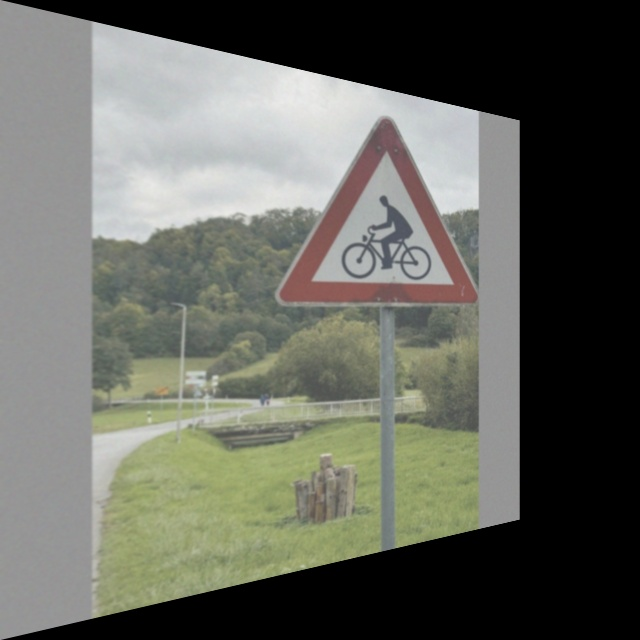Cycle_Crossing: (275, 94, 473, 305)
